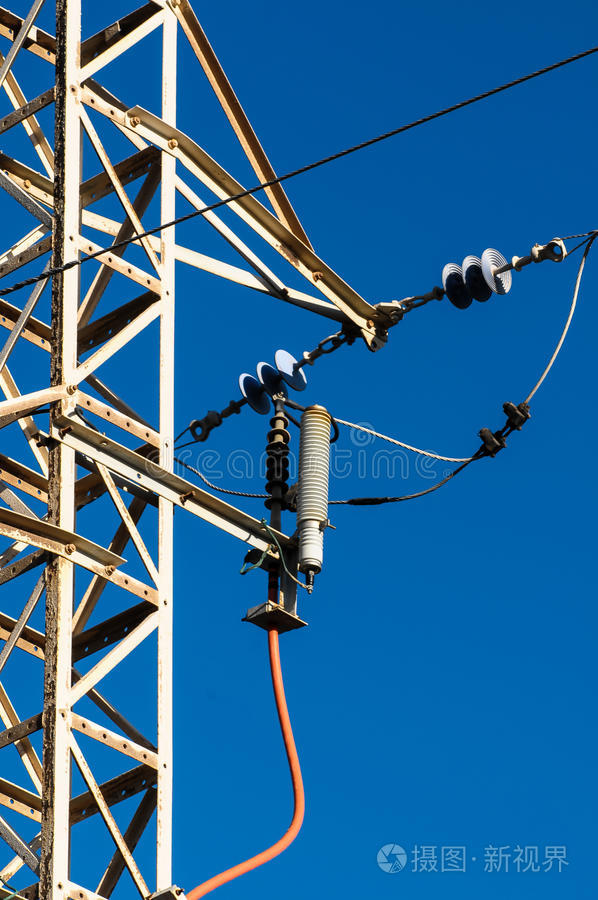insulator: (237, 347, 310, 415), (439, 246, 513, 311), (259, 424, 287, 509)
